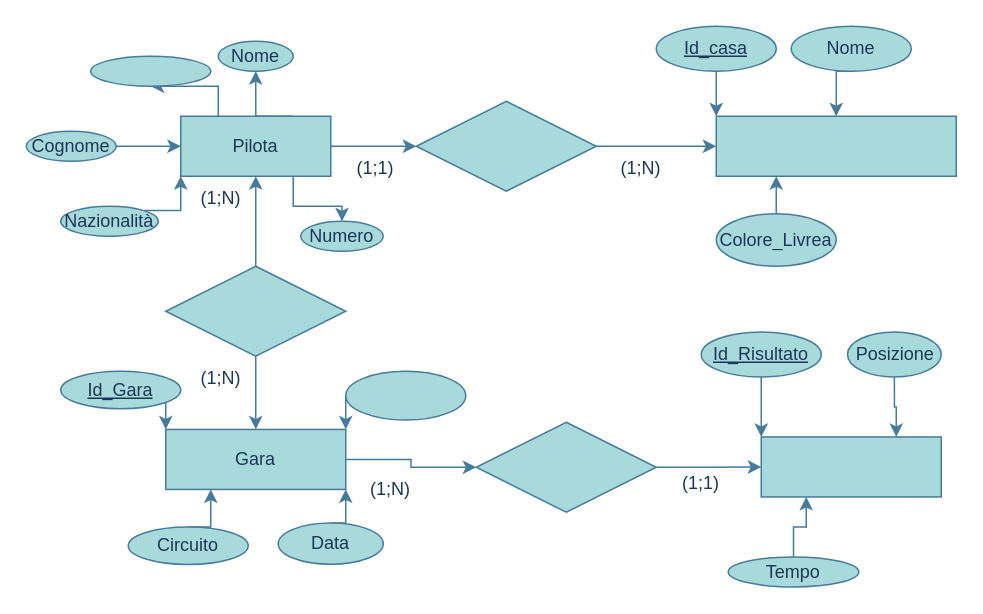
This 983x614 diagram has some shape labels left out. Each missing label, with the centre of its shape:
"Casa_Automobilistica" belongs at point 835,145.
"G_R" belongs at point 565,466.
"Id_Pilota" belongs at point 150,70.
"Nome_Gara" belongs at point 405,395.
"P_C" belongs at point 505,145.
"P_G" belongs at point 255,310.
"Risultato" belongs at point 850,466.
